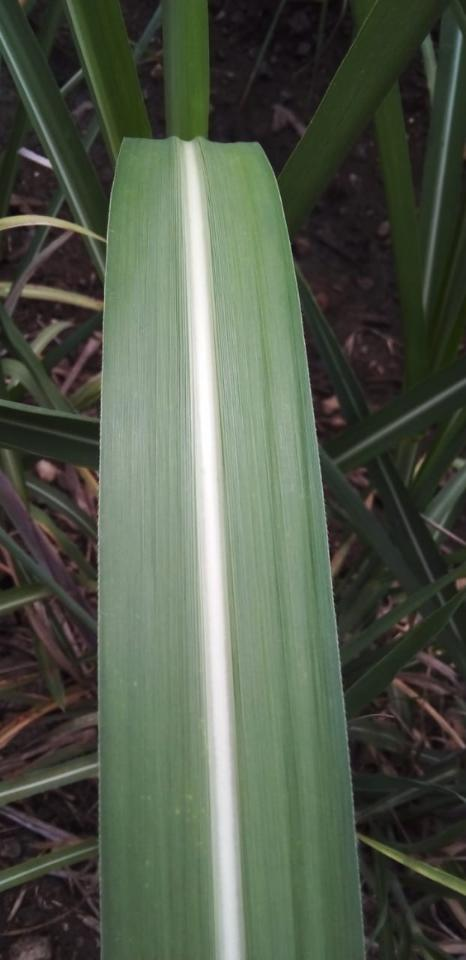Healthy: (98, 137, 367, 959)
